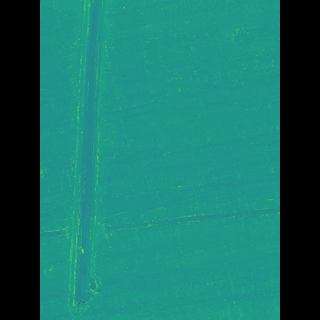Loch: (88, 0, 126, 320)
